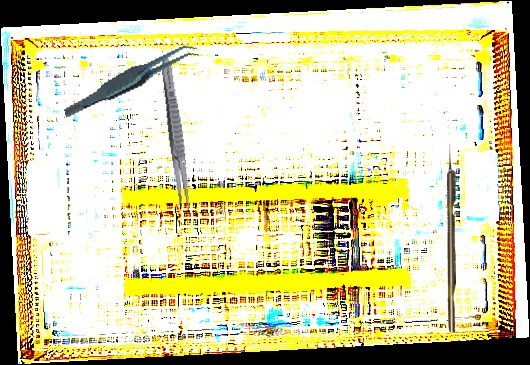Dressing Forceps: (156, 53, 196, 218)
Hook Surgical: (447, 144, 456, 332)
Tissue Forceps: (55, 42, 207, 119)
